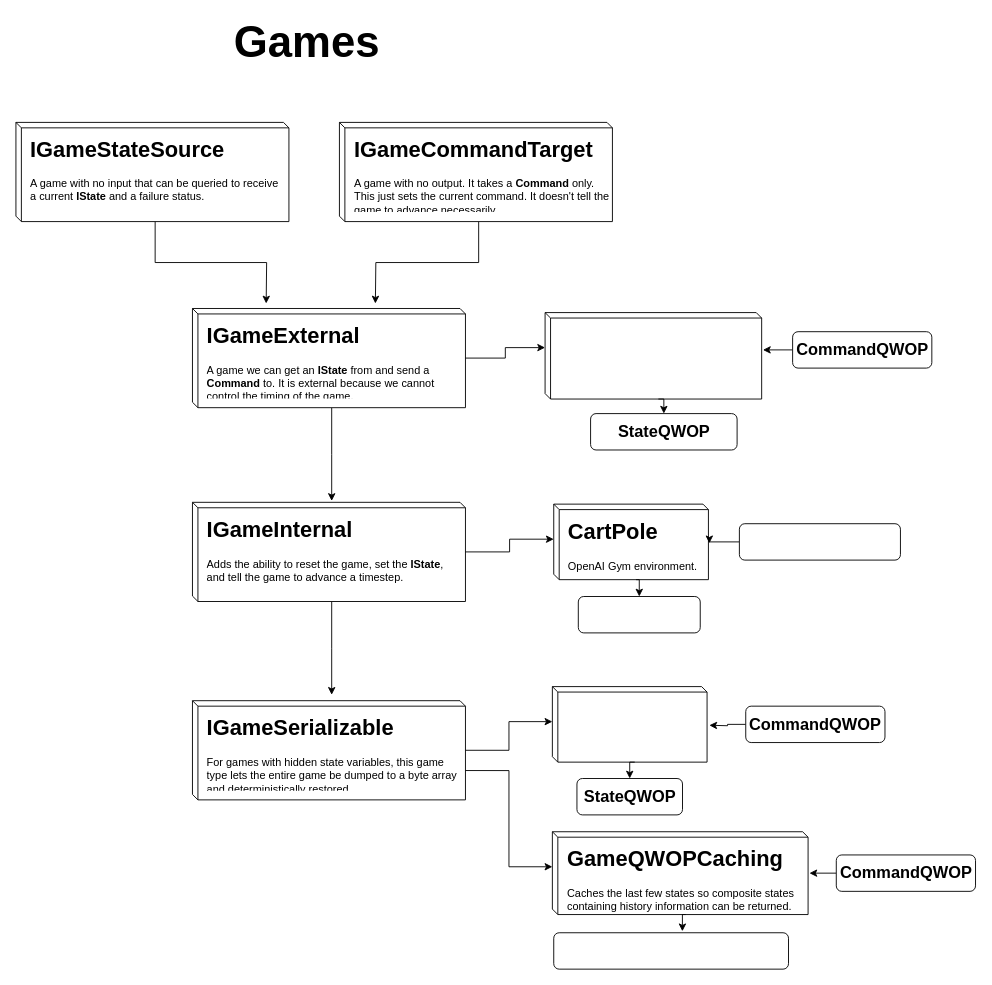
This 992x985 diagram has some shape labels left out. The centre of each missing label's shape, as x and y in pixels:
CommandCartPole: the point at 819,541
FlashQWOPServer Communication with QWOP game in browser.: the point at 653,355
GameQWOP Basic QWOP simulation.: the point at 629,724
StateCartPole: the point at 638,614
StateQWOPDelayEmbedded: the point at 671,950
